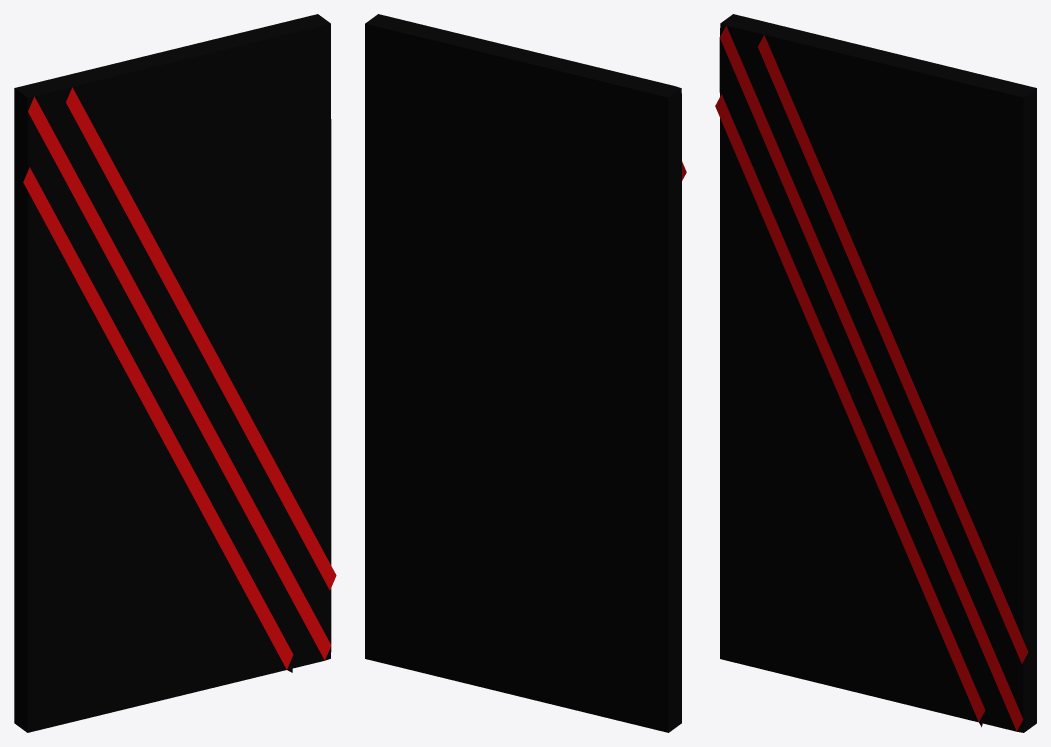
File: Wall2.fbx
3 views of the same model, side by side, from view 1: azimuth 30°, elevation 25°; view 2: azimuth 150°, elevation 25°; view 3: azimuth 330°, elevation 25° (orthographic).
Parts seen in each view (by area): view 1: Cube; view 2: Cube; view 3: Cube.
Boxes of the visible parts, x1,y1,x2,y2 form: Cube: [14, 14, 336, 732]; Cube: [365, 14, 686, 732]; Cube: [715, 14, 1036, 732].
Bounding box in the file's own units: 206 × 402 × 16.89.
